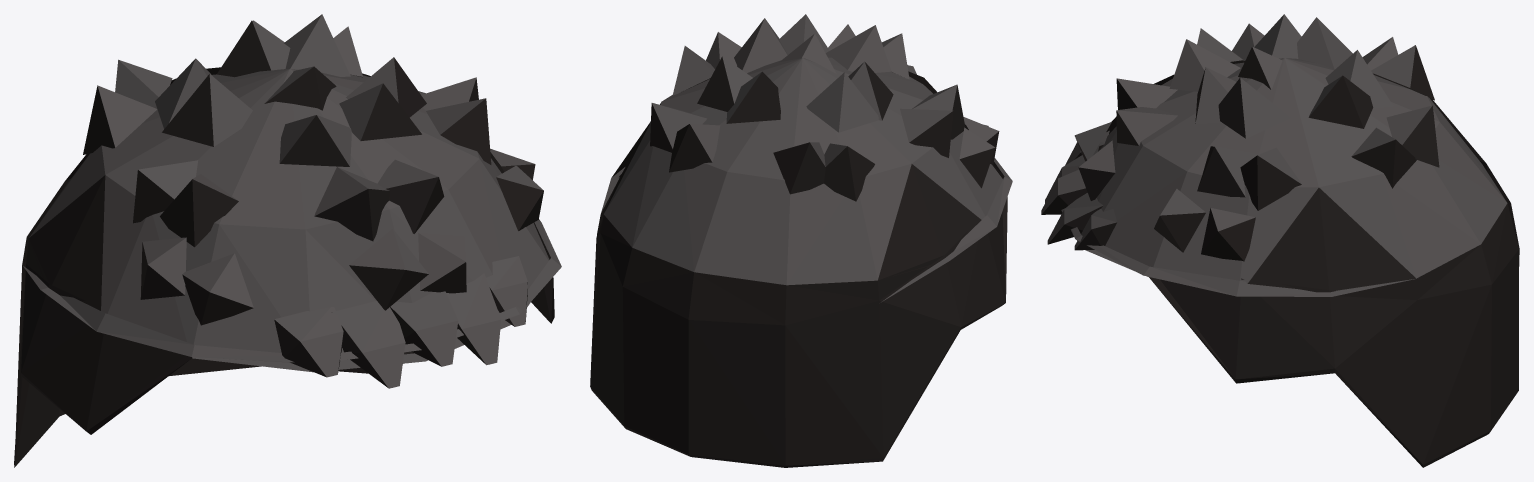
File: hair_short_02.glb
3 renders of one model, left to right at view 1: azimuth 30°, elevation 25°; view 2: azimuth 150°, elevation 25°; view 3: azimuth 270°, elevation 25°, orthographic. The views are drawn at different scales.
Parts seen in each view (by area): view 1: hair_short_02; view 2: hair_short_02; view 3: hair_short_02.
Part boxes in pixels (x1,y1,x2,y2): hair_short_02: [14, 14, 561, 467]; hair_short_02: [590, 14, 1012, 467]; hair_short_02: [1041, 14, 1519, 467].
Bounding box in the file's own units: 0.2633 × 0.229 × 0.2845.
1 material, 1 textured.
